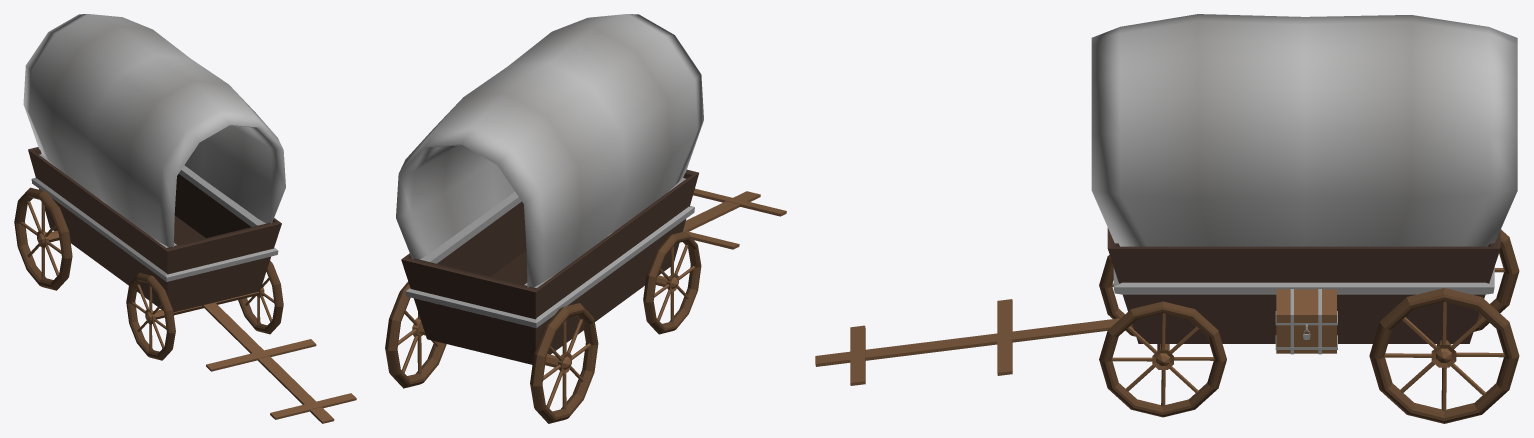
File: Wagon.fbx
3 renders of one model, left to right at view 1: azimuth 30°, elevation 25°; view 2: azimuth 150°, elevation 25°; view 3: azimuth 270°, elevation 25°, orthographic. The views are drawn at different scales.
Visible parts, largest first — view 1: Wagon; view 2: Wagon; view 3: Wagon.
Boxes of the visible parts, x1,y1,x2,y2 form: Wagon: (14,14,356,423); Wagon: (385,14,786,423); Wagon: (815,14,1519,423).
Size of the model in its own units: 86.04 by 147 by 260.
